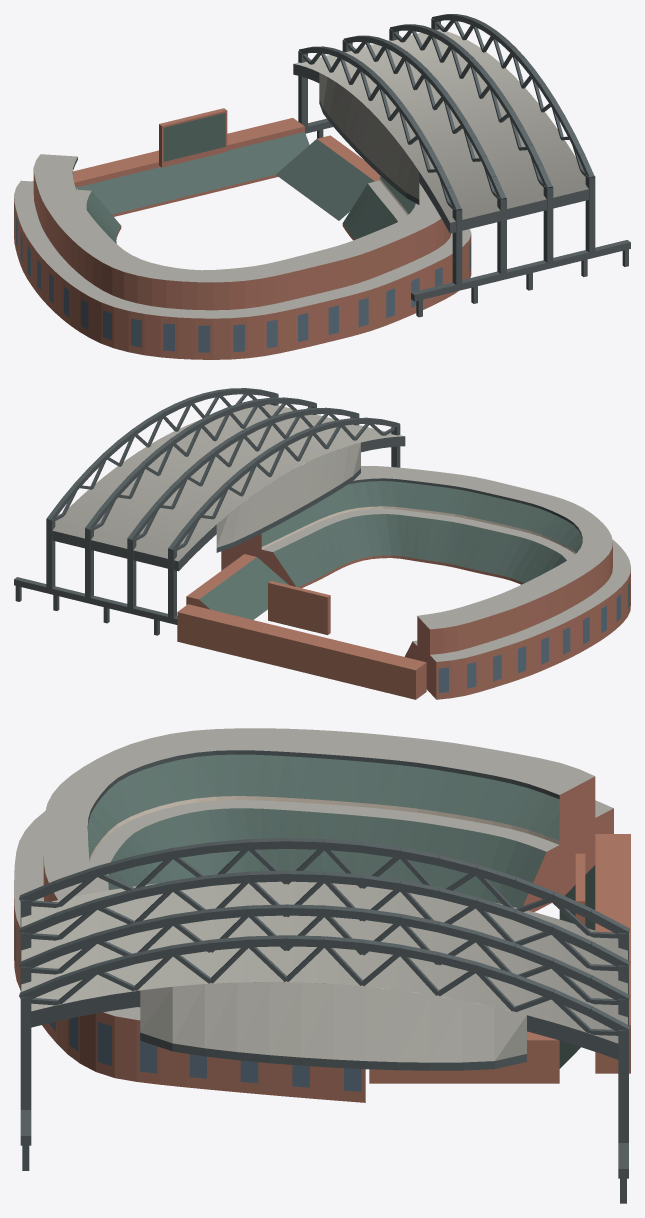
The picture shows the model from 3 angles, top to bottom: view 1: azimuth 30°, elevation 25°; view 2: azimuth 150°, elevation 25°; view 3: azimuth 270°, elevation 25°; orthographic projection. The views are drawn at different scales.
Parts seen in each view (by area): view 1: t-mobile-park; view 2: t-mobile-park; view 3: t-mobile-park.
Part boxes in pixels (x1=…): t-mobile-park: x1=14, y1=14, x2=630, y2=359; t-mobile-park: x1=14, y1=388, x2=630, y2=699; t-mobile-park: x1=14, y1=728, x2=630, y2=1203.
Size of the model in its own units: 306 by 82.4 by 208.
